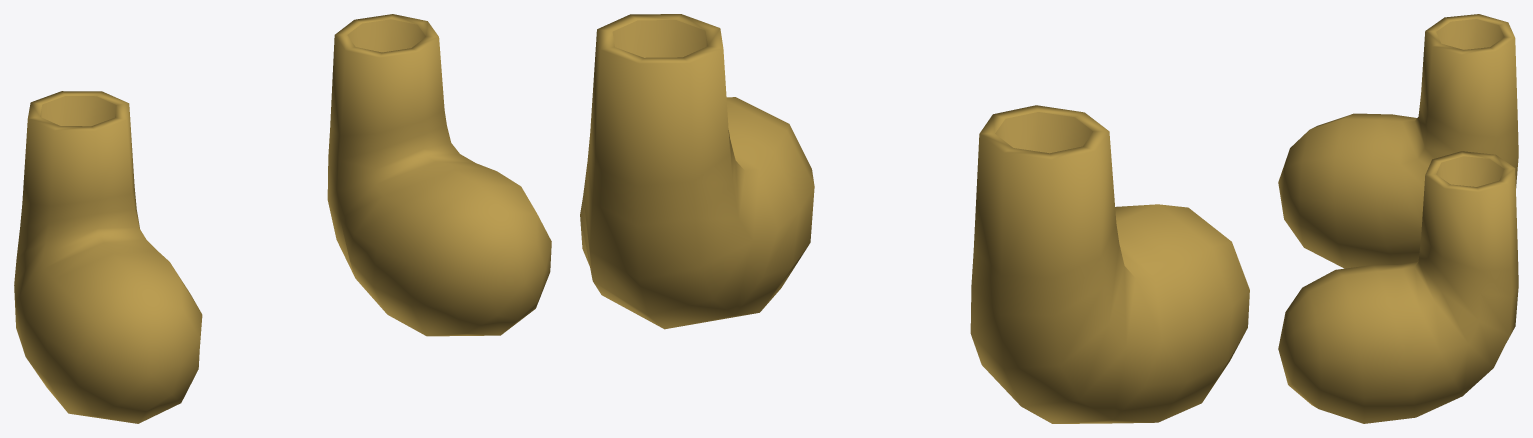
File: Boots.fbx
3 views of the same model, side by side, from view 1: azimuth 30°, elevation 25°; view 2: azimuth 150°, elevation 25°; view 3: azimuth 270°, elevation 25° (orthographic). The views are drawn at different scales.
Visible parts, largest first — view 1: Boots; view 2: Boots; view 3: Boots.
Boxes of the visible parts, bbox=[...] form: Boots: bbox=[14, 14, 551, 423]; Boots: bbox=[580, 14, 1249, 423]; Boots: bbox=[1278, 14, 1518, 423].
Size of the model in its own units: 0.1017 by 0.0473 by 0.0513.
